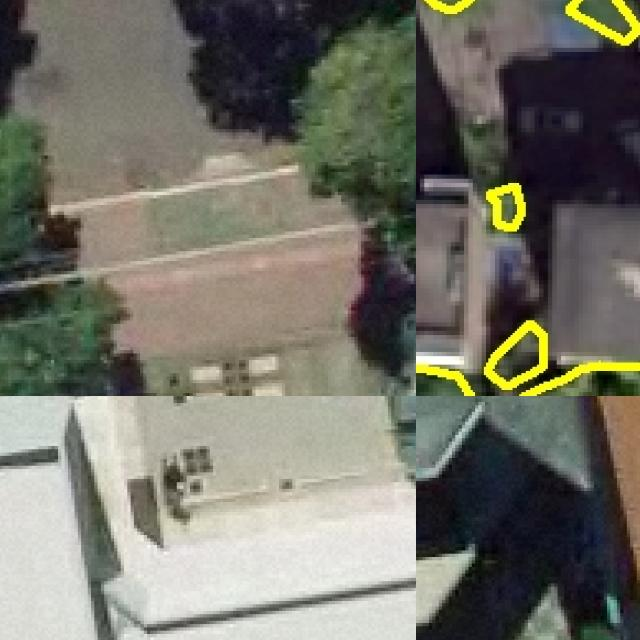trees: (1, 119, 141, 397), (303, 16, 417, 218), (1, 120, 52, 286), (487, 323, 544, 387), (569, 1, 639, 43), (489, 186, 522, 228), (428, 1, 471, 11)
